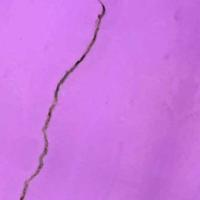crack: (20, 0, 108, 199)
